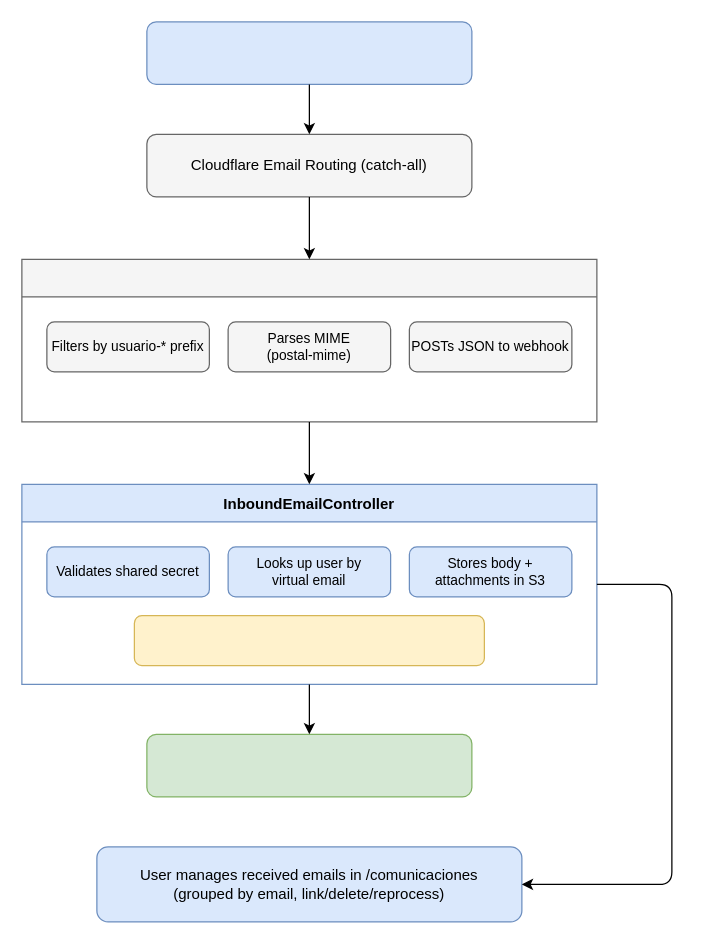
Some shapes in this 704 by 944 pixel diagram are drawn without their labels. The shapes that lost their labels are listed below. From the top down, each one's box as (x1, y1, x2, y2) in pixels, then its label:
(146, 21, 472, 84): Email to usuario-xxx@pideinfo.es
(21, 258, 597, 422): Cloudflare Email Worker
(133, 614, 484, 666): Dispatches ProcessDocumentBatchMessage
(146, 733, 472, 797): Same processing pipeline as manual uploads
